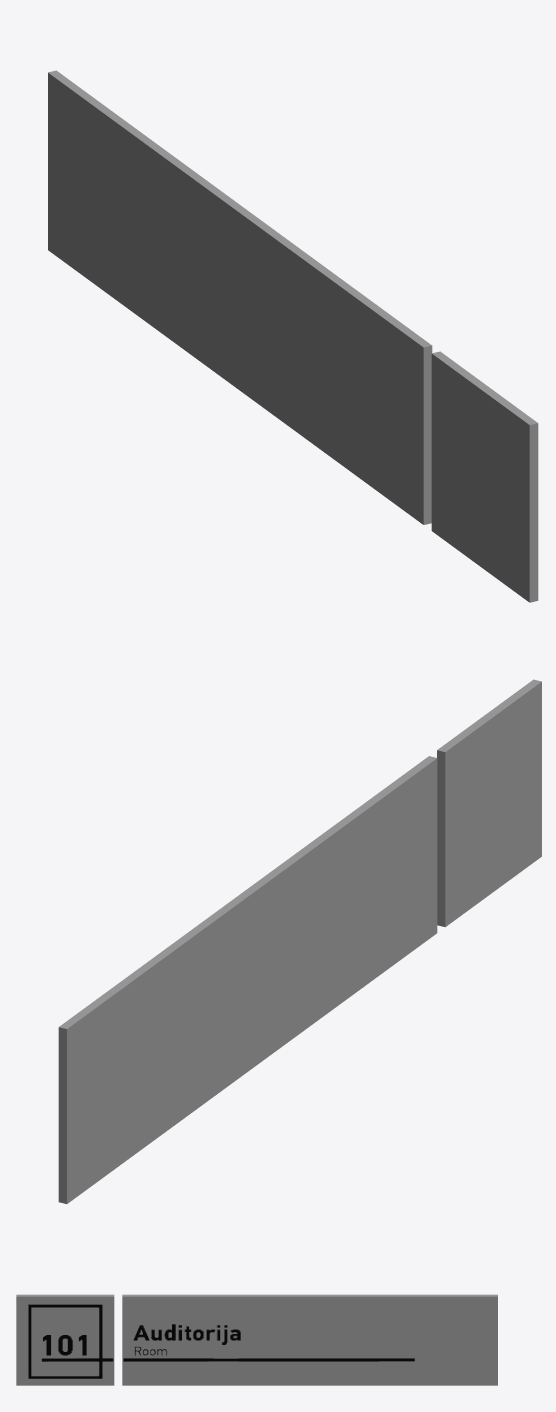
3 renders of one model, top to bottom at view 1: azimuth 30°, elevation 25°; view 2: azimuth 150°, elevation 25°; view 3: azimuth 270°, elevation 25°, orthographic. The views are drawn at different scales.
Parts seen in each view (by area): view 1: Plane.001, Plane; view 2: Plane.001, Plane; view 3: Plane.001, Plane, 101.
Part boxes in pixels (box(x1,y1,x2,y2)): Plane.001: box(48, 70, 432, 524); Plane: box(431, 351, 538, 602); Plane.001: box(58, 756, 437, 1203); Plane: box(437, 679, 541, 927); Plane.001: box(122, 1294, 497, 1385); Plane: box(16, 1294, 114, 1385); 101: box(28, 1304, 414, 1378).
Size of the model in its own units: 11.75 by 253 by 1078.
Materials: 3 (1 with a texture image).
